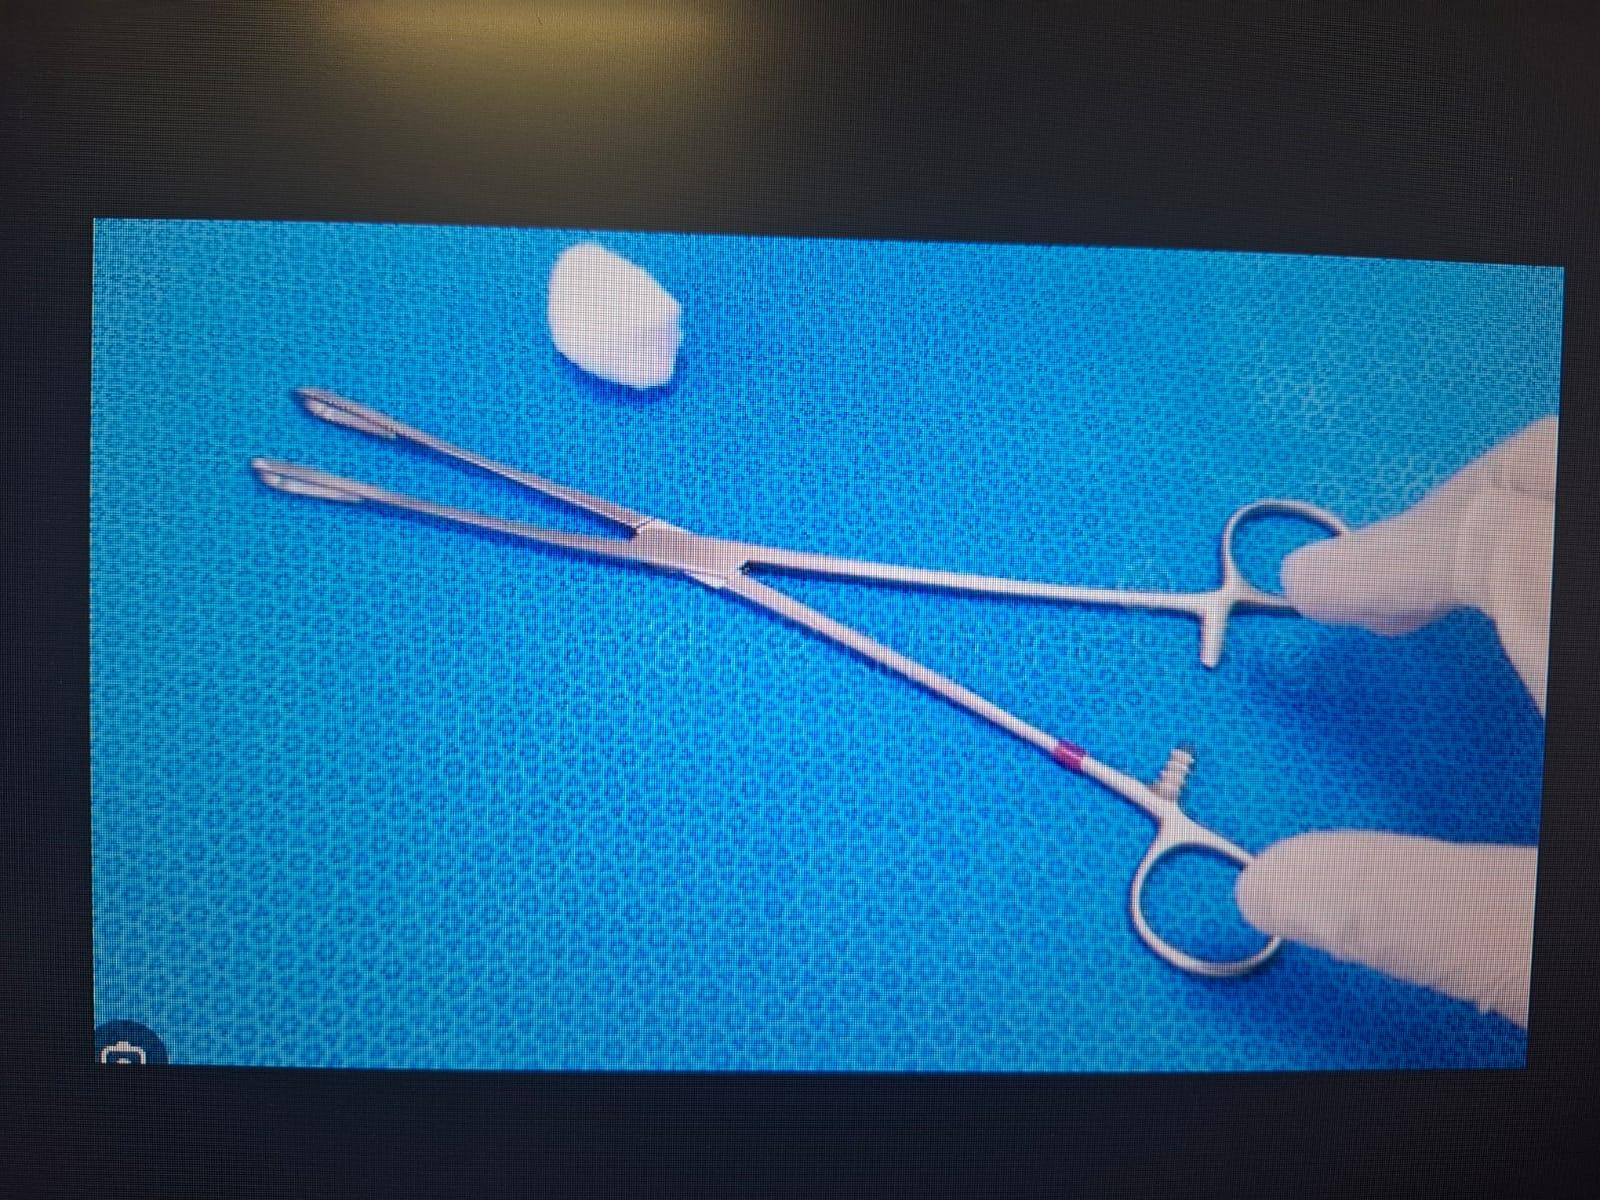Sponge Holding Forceps: (238, 372, 1378, 1004)
